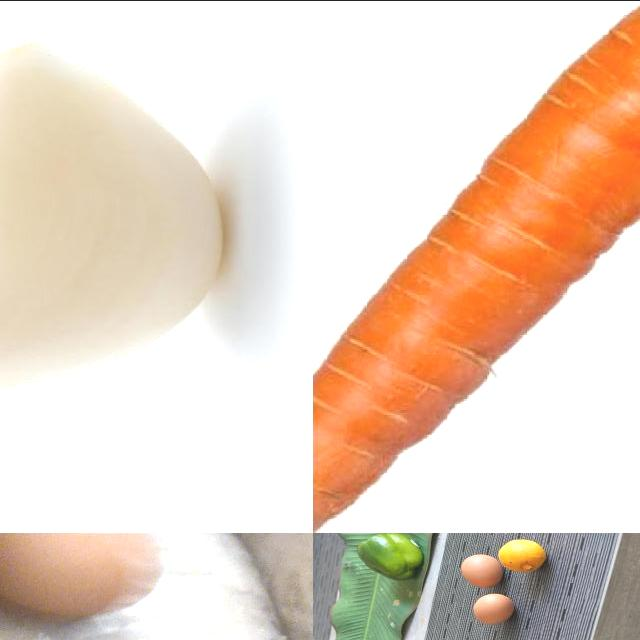bell_pepper: (355, 533, 431, 582)
carrot: (314, 1, 640, 533)
egg: (1, 533, 170, 623), (458, 553, 504, 589), (472, 591, 518, 623)
garlic: (1, 39, 228, 398)
